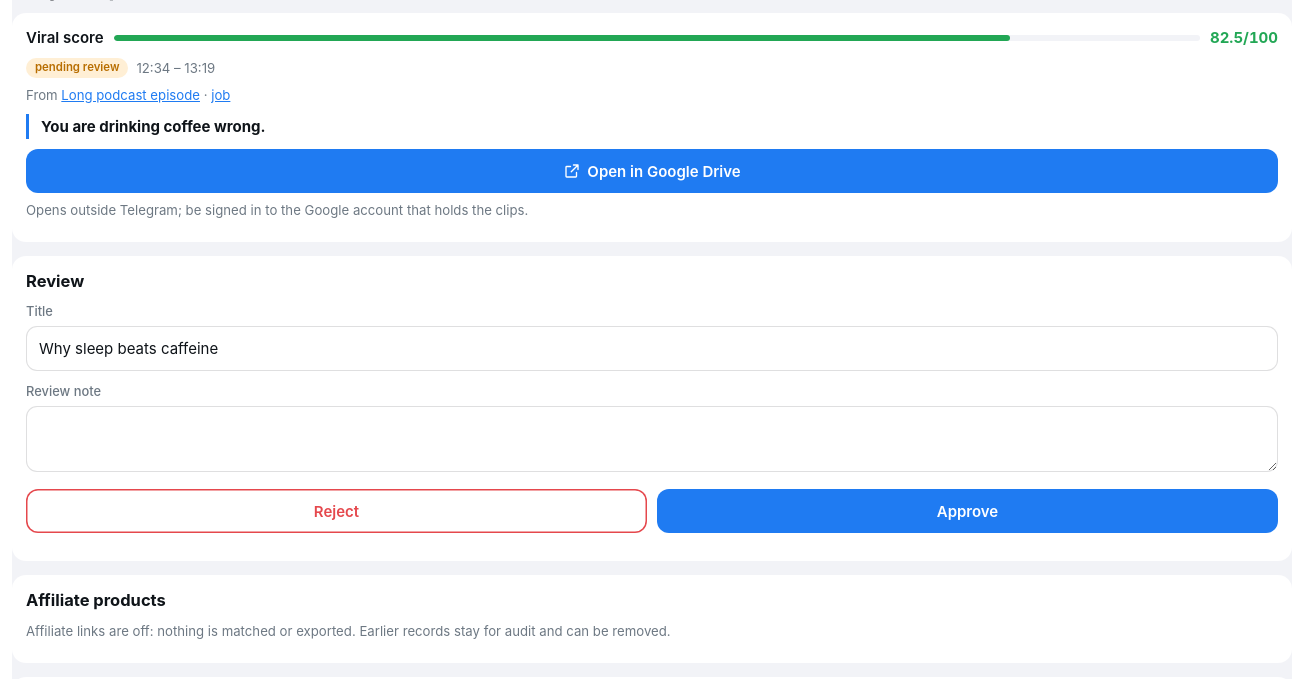
Test case: ClipDetail › shows review errors inline
(page scrolled)
Type " and more" into the field labelled "Title" at (652, 349), box [26,326,1278,371]
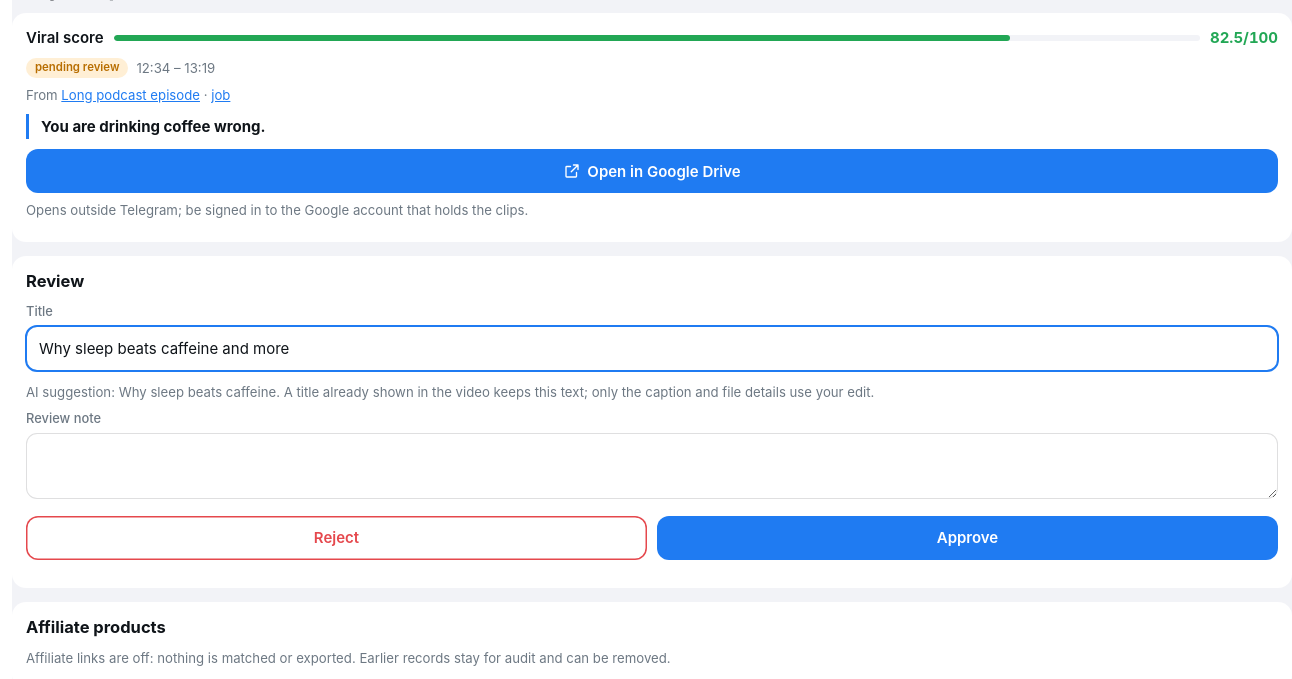
Click the button "Approve" at (968, 538), box [657,516,1278,560]
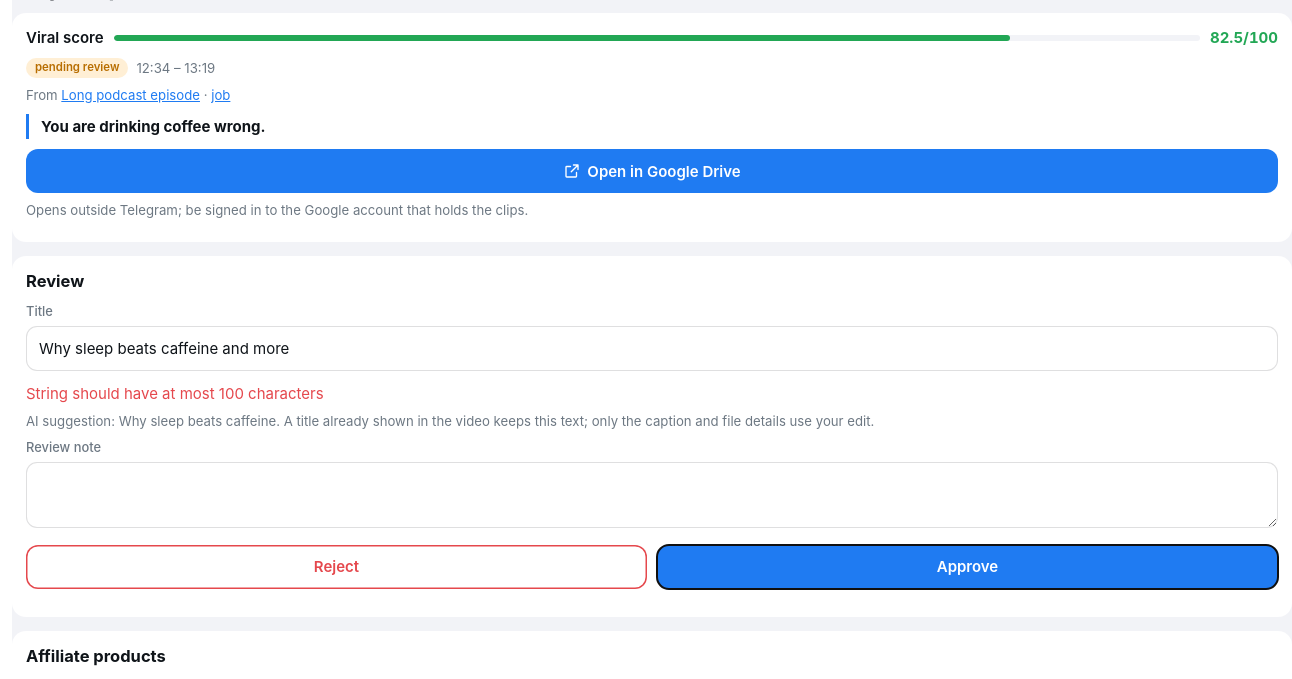
Now the text "String should have at most 100 characters" is shown, box [26,384,324,403]
